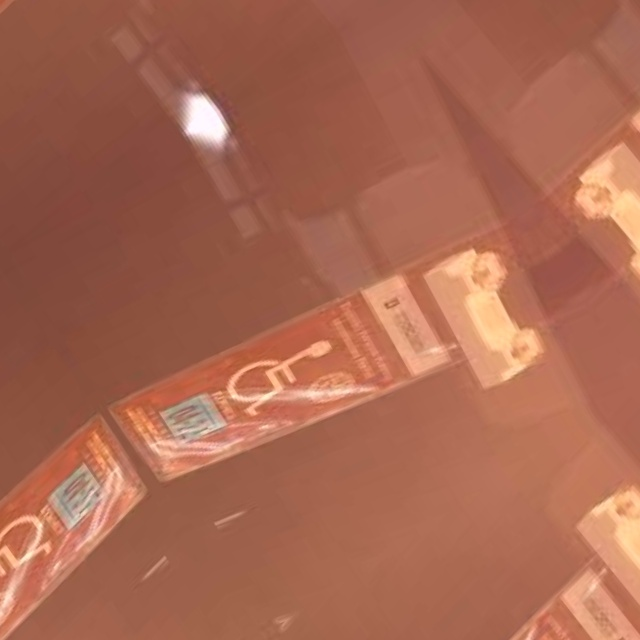ISA: (214, 312, 354, 439), (0, 501, 71, 628), (0, 0, 69, 12)
